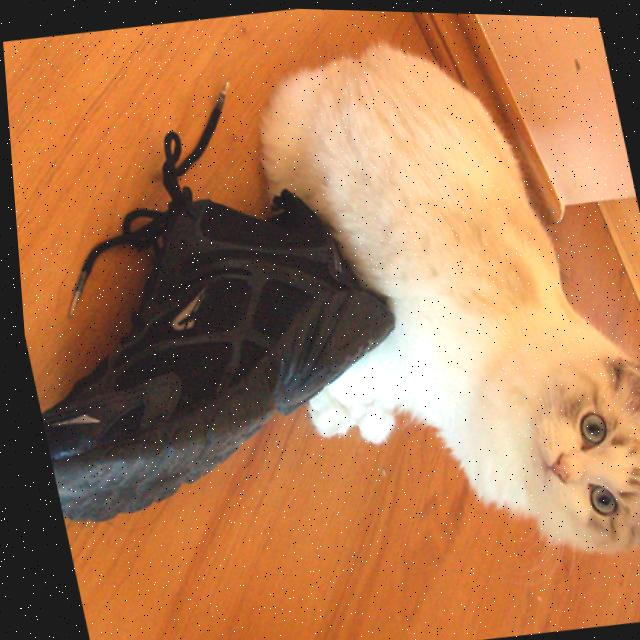Ragdoll: (221, 5, 640, 614)
